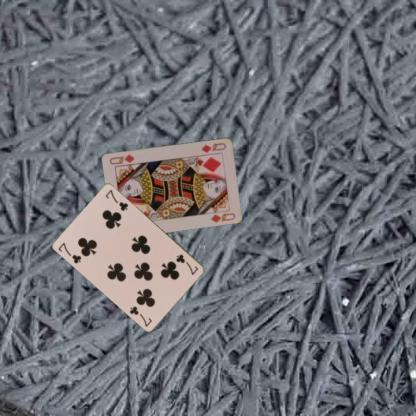7c: (173, 252, 200, 276), (56, 240, 83, 264)
Qd: (198, 140, 228, 154)
